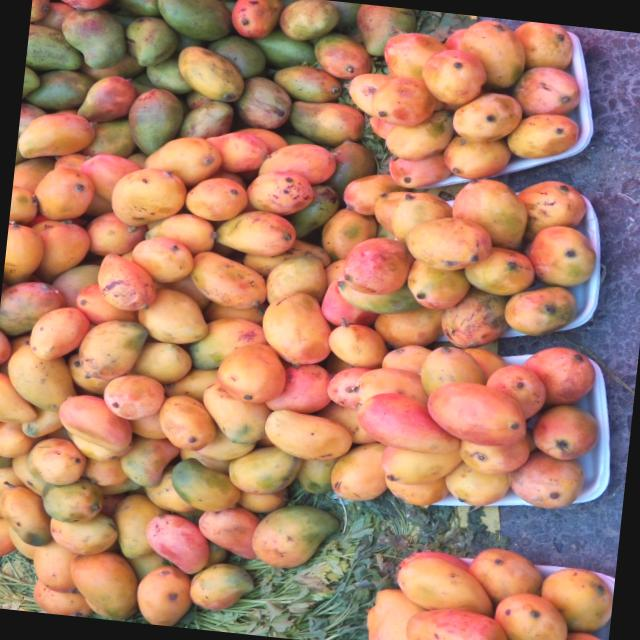mango: (423, 376, 531, 451), (358, 388, 464, 456), (394, 549, 498, 618), (248, 498, 339, 573), (449, 174, 532, 252), (3, 339, 82, 413), (66, 547, 143, 622), (504, 444, 588, 512), (534, 562, 614, 632), (198, 377, 276, 447), (518, 342, 598, 410), (108, 163, 189, 229), (54, 390, 136, 455), (260, 296, 336, 366), (216, 338, 292, 406), (523, 222, 599, 290), (259, 406, 351, 462), (340, 234, 418, 299), (76, 316, 150, 384), (187, 252, 272, 310), (140, 509, 213, 575), (143, 130, 226, 188), (528, 398, 602, 462), (16, 105, 97, 163), (168, 454, 245, 514), (226, 439, 304, 498), (174, 42, 249, 103), (213, 208, 300, 260), (450, 86, 526, 145), (420, 44, 490, 108), (134, 290, 211, 346), (510, 61, 583, 120), (491, 587, 572, 640), (328, 437, 392, 504), (134, 562, 198, 628), (504, 108, 582, 162), (262, 251, 333, 310), (260, 136, 340, 188), (154, 391, 222, 452), (286, 96, 364, 149), (403, 602, 510, 640), (32, 164, 98, 224), (194, 502, 262, 560), (187, 557, 256, 613), (28, 304, 92, 364), (100, 369, 170, 423), (244, 166, 318, 217), (183, 172, 254, 224), (406, 258, 474, 312), (128, 234, 198, 286), (26, 432, 91, 487), (76, 70, 139, 126), (342, 168, 407, 218), (312, 29, 373, 81), (270, 60, 342, 104), (325, 320, 387, 370), (323, 208, 380, 262), (276, 0, 339, 44)
